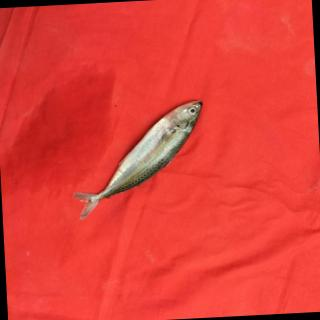Ikan: (52, 74, 220, 225)
